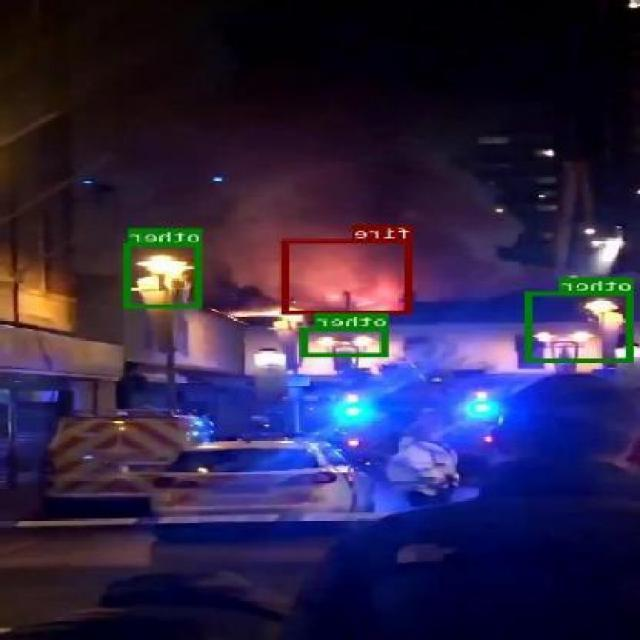Fire: (284, 239, 413, 313)
